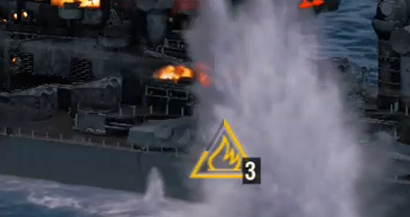3fire: (184, 143, 263, 186)
